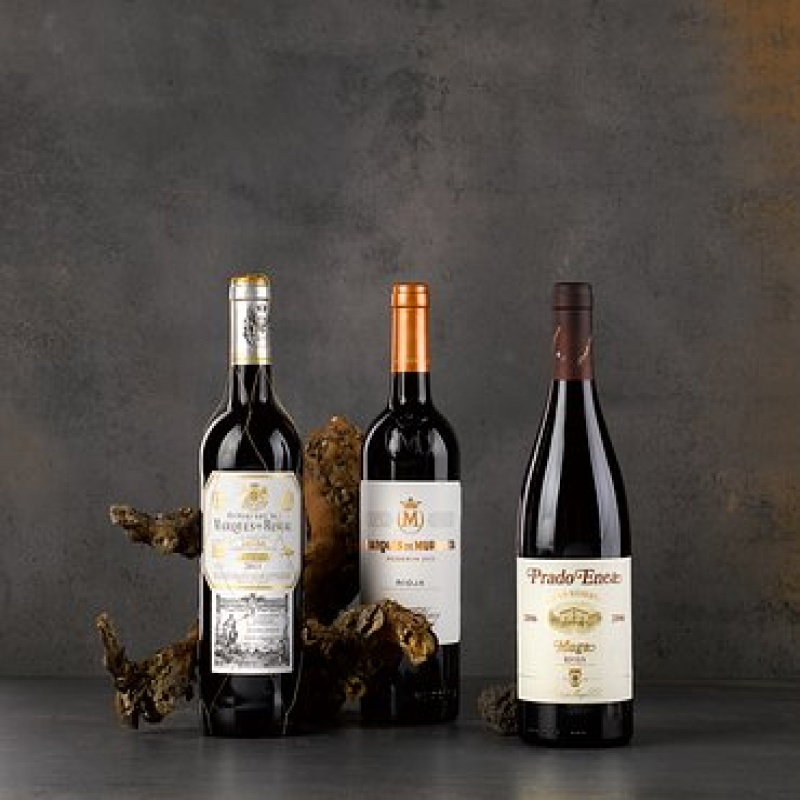wine: (517, 281, 643, 749), (202, 272, 309, 731), (361, 283, 464, 720)
